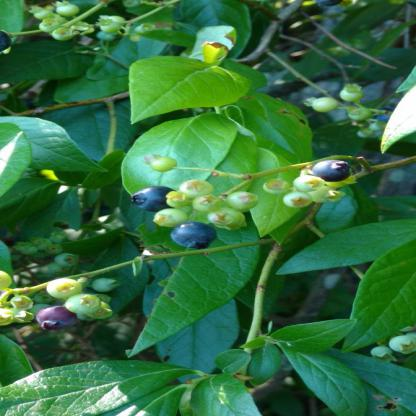Blueberry leaf: (1, 359, 215, 413), (121, 104, 238, 200), (134, 47, 253, 122), (1, 113, 111, 185), (283, 219, 410, 279), (334, 236, 415, 330)
